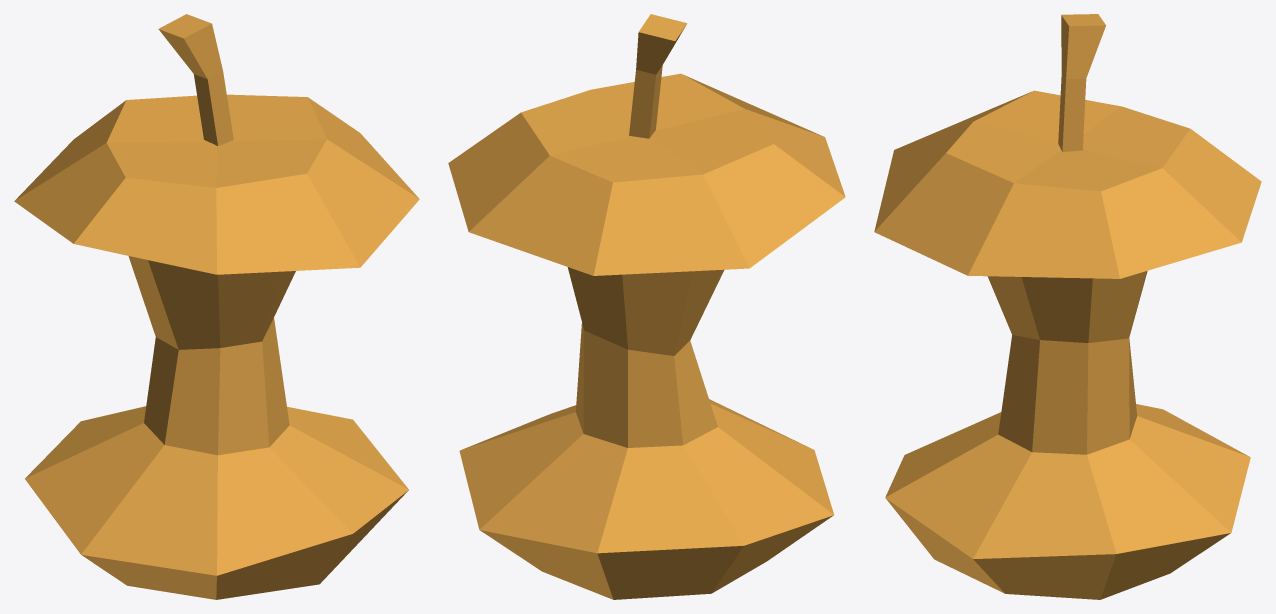
Rendered from apple-core.fbx.
3 renders of one model, left to right at view 1: azimuth 30°, elevation 25°; view 2: azimuth 150°, elevation 25°; view 3: azimuth 270°, elevation 25°, orthographic. The views are drawn at different scales.
Visible parts, largest first — view 1: apple-core; view 2: apple-core; view 3: apple-core.
Part boxes in pixels (x1,y1,x2,y2): apple-core: [14, 14, 419, 599]; apple-core: [448, 14, 845, 599]; apple-core: [874, 14, 1261, 599].
Size of the model in its own units: 0.0925 by 0.1415 by 0.0925.
